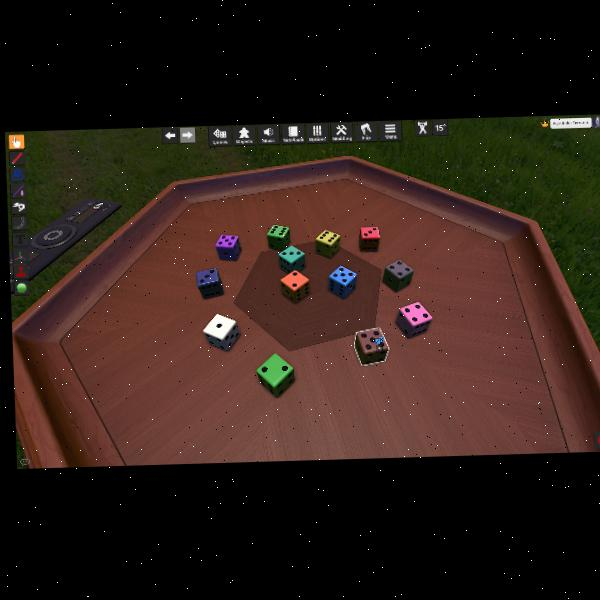d6: (255, 353, 295, 398), (203, 313, 240, 352), (353, 327, 388, 366), (395, 302, 431, 339), (382, 259, 414, 292), (280, 270, 310, 304), (327, 264, 355, 298), (196, 267, 223, 299), (277, 245, 304, 275), (214, 234, 240, 261), (314, 229, 338, 258), (267, 224, 292, 250), (359, 225, 380, 252)
